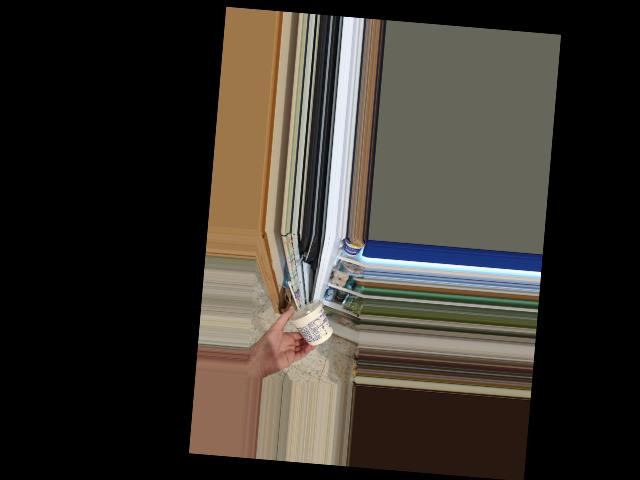cotage: (286, 295, 330, 348)
